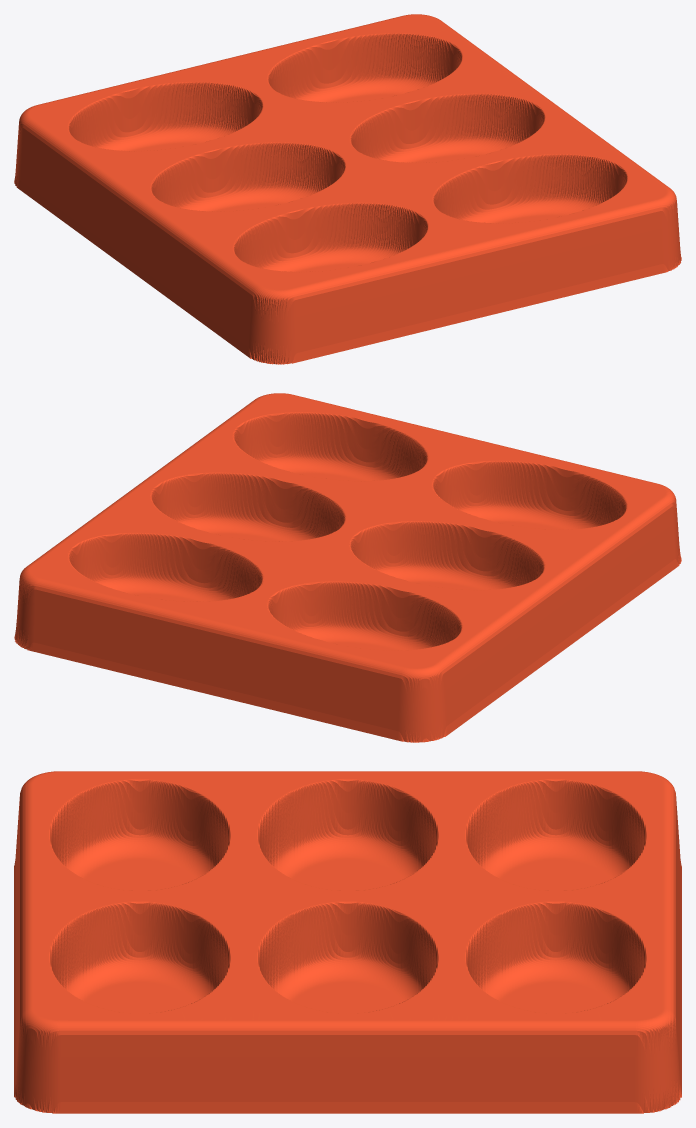
File: mold.glb
3 views of the same model, one above another, from view 1: azimuth 30°, elevation 25°; view 2: azimuth 150°, elevation 25°; view 3: azimuth 270°, elevation 25° (orthographic). The views are drawn at different scales.
Visible parts, largest first — view 1: geometry_0; view 2: geometry_0; view 3: geometry_0.
Boxes of the visible parts, <box> form: geometry_0: <box>14,14,681,364</box>; geometry_0: <box>14,393,681,742</box>; geometry_0: <box>14,771,681,1113</box>.
Bounding box in the file's own units: 0.1222 × 0.0185 × 0.1309.
